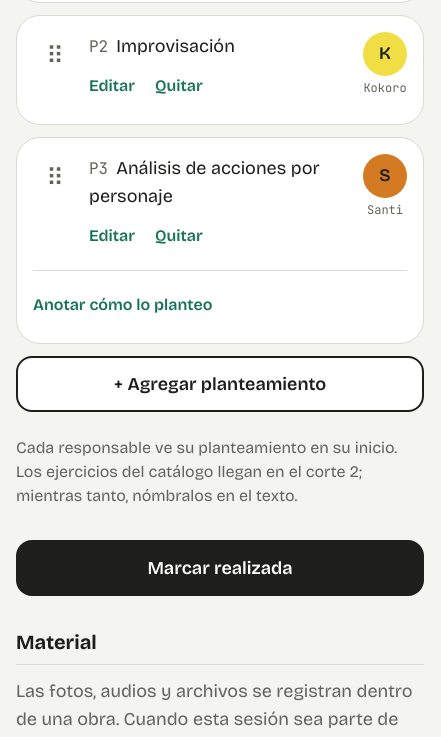
Test: HU-08 · planteamientos de una sesión › adds an approach: text and who brings it (the author by default)
The width and height of the screenshot is (441, 737).
(page scrolled)
Click the button "+ Agregar planteamiento": x=220, y=384 [16,356,424,412]
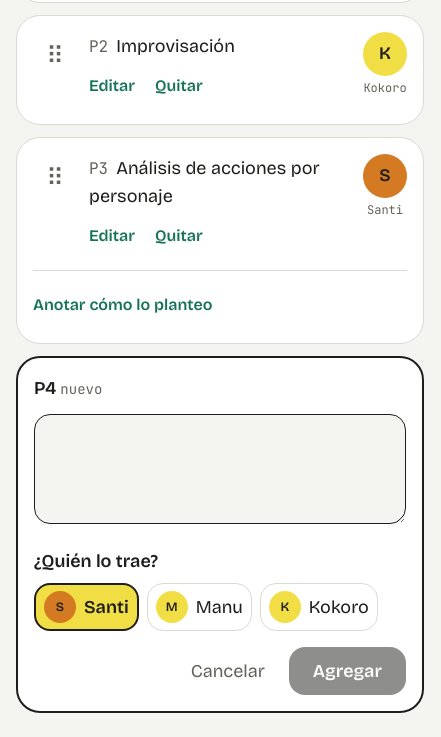
Expected: the button "Agregar" is disabled, [289,647,406,695]
Expected: the text "nuevo" is shown, [60,380,102,398]
In the text box named "Texto del planteamiento": x=220, y=469 [34,414,406,524], type "Trabajo de voz"
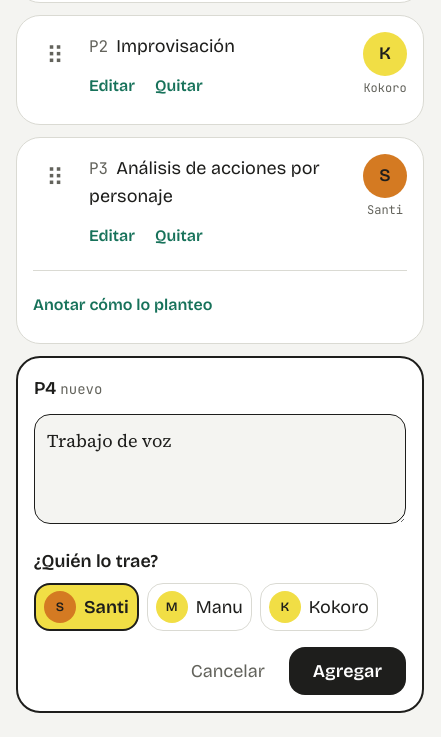
Click the radio button labelled "K Kokoro": x=319, y=607 [260,583,378,631]
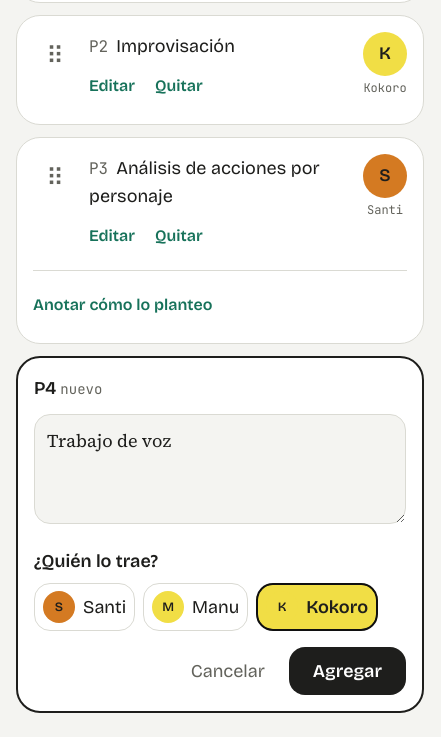
Click the button "Agregar": x=347, y=671 [289,647,406,695]
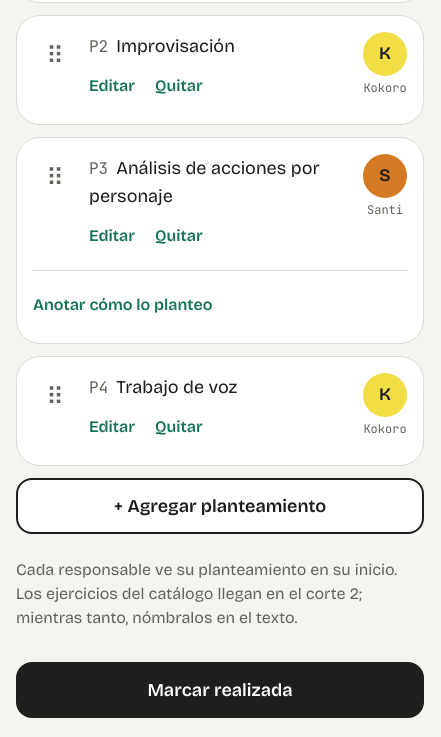
Expected: the text "Trabajo de voz" is shown, [116,376,237,398]
